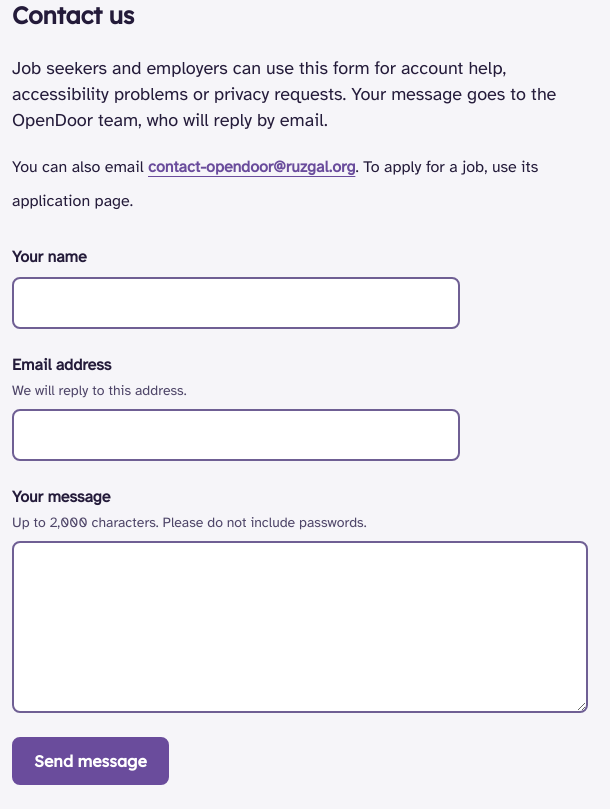
Test: ContactPage › shows Laravel's message beside the field
Type "Maria" into the field labelled "Your name" at (236, 303), box [12,277,460,329]
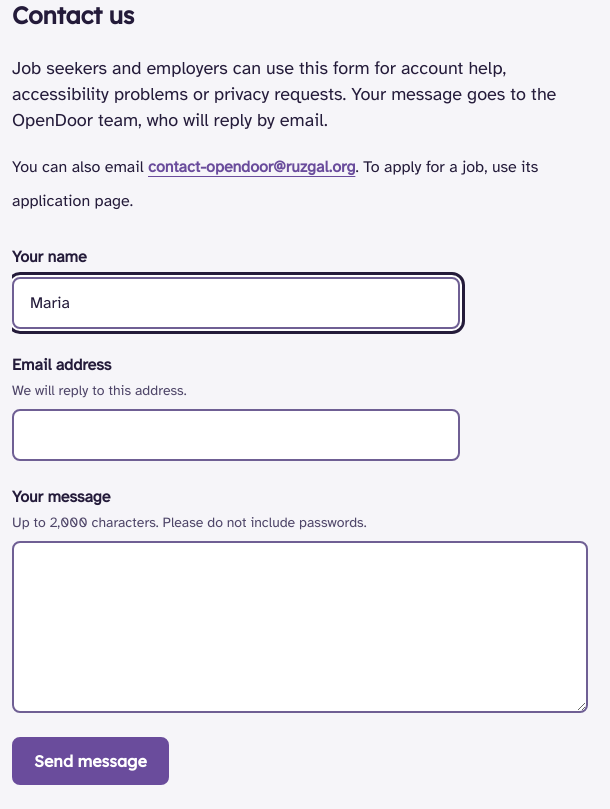
Type "maria@x" into the field labelled "Email address" at (236, 435), box [12,409,460,461]
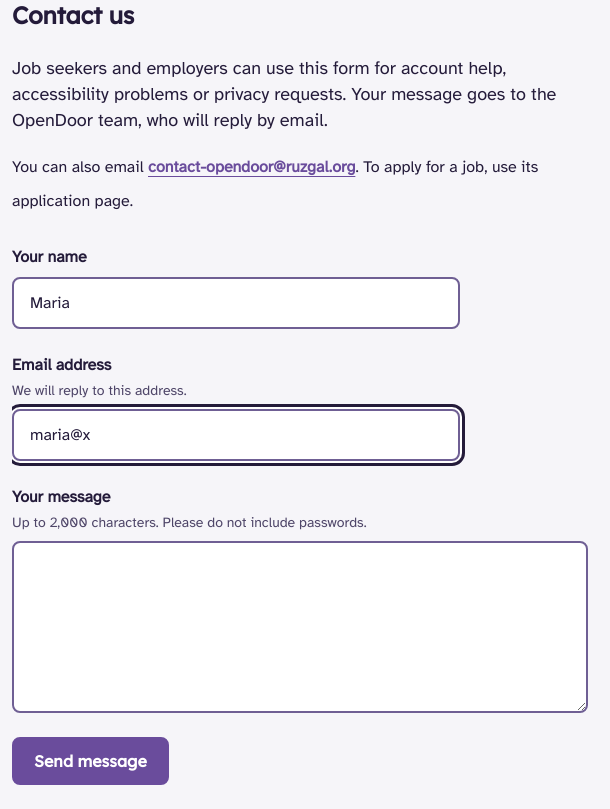
Type "I cannot upload my resume." into the text box labelled "Your message" at (300, 627), box [12,541,588,713]
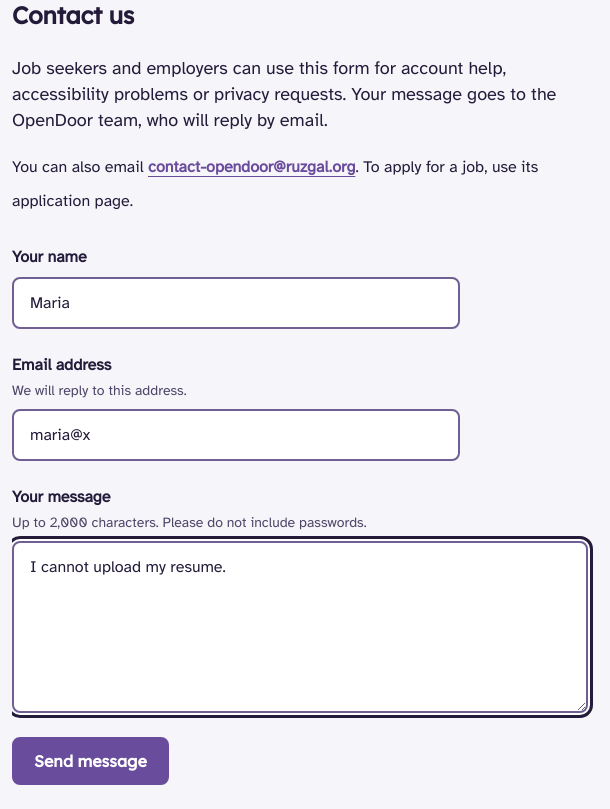
Click the button "Send message" at (90, 761), box [12,737,169,785]
(page scrolled)
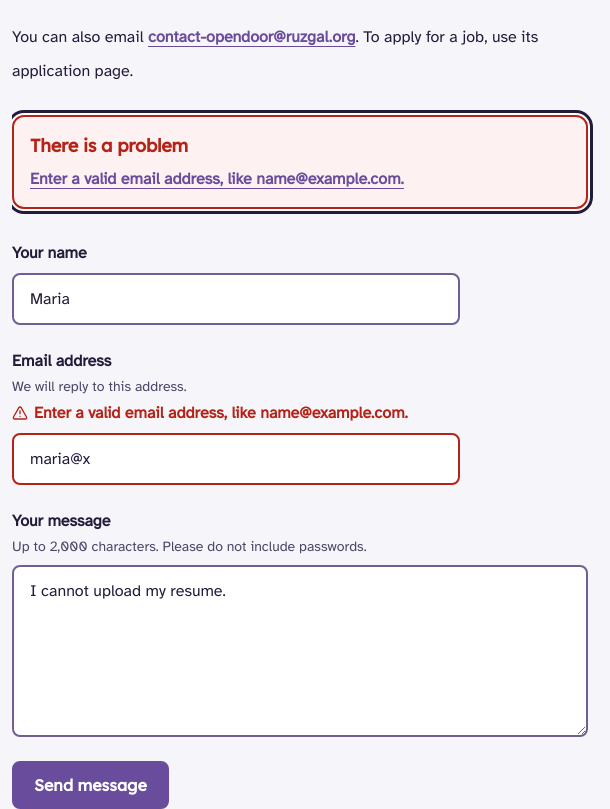
expect the link "Enter a valid email address, like name@example.com." is shown: met, box [30,169,404,189]
